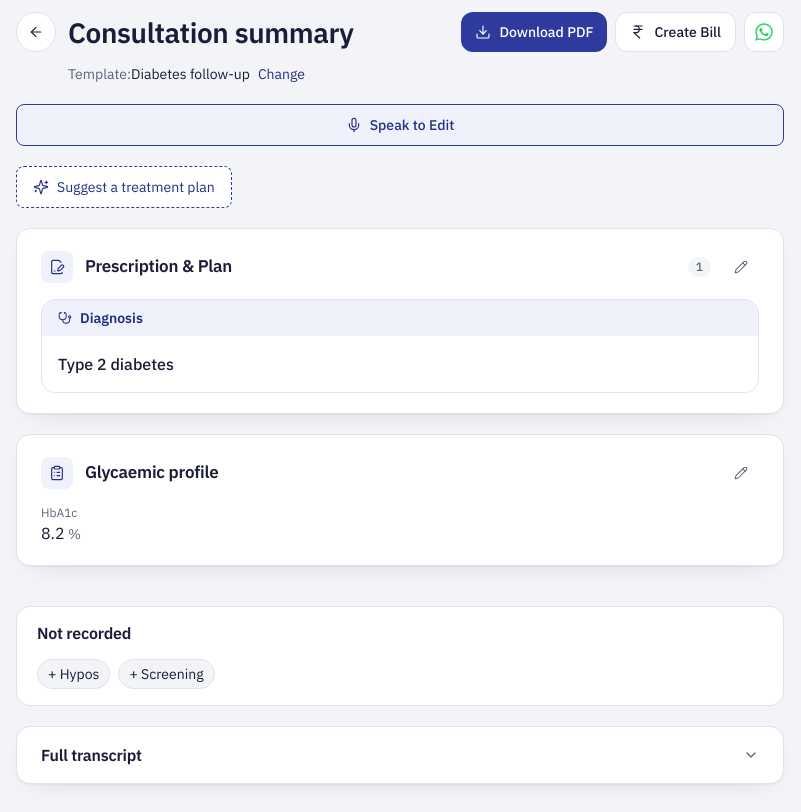
Test: template's own sections › shows filled ones as cards and empty ones as chips, and saves edits
The image size is (801, 812).
Expected: the heading "Glycaemic profile" is shown, [85,461,218,483]
Expected: the text "8.2" is shown, [41,523,65,543]
Step 1. Click the button named "Edit Glycaemic profile" → x=741, y=473, box [723,455,759,491]
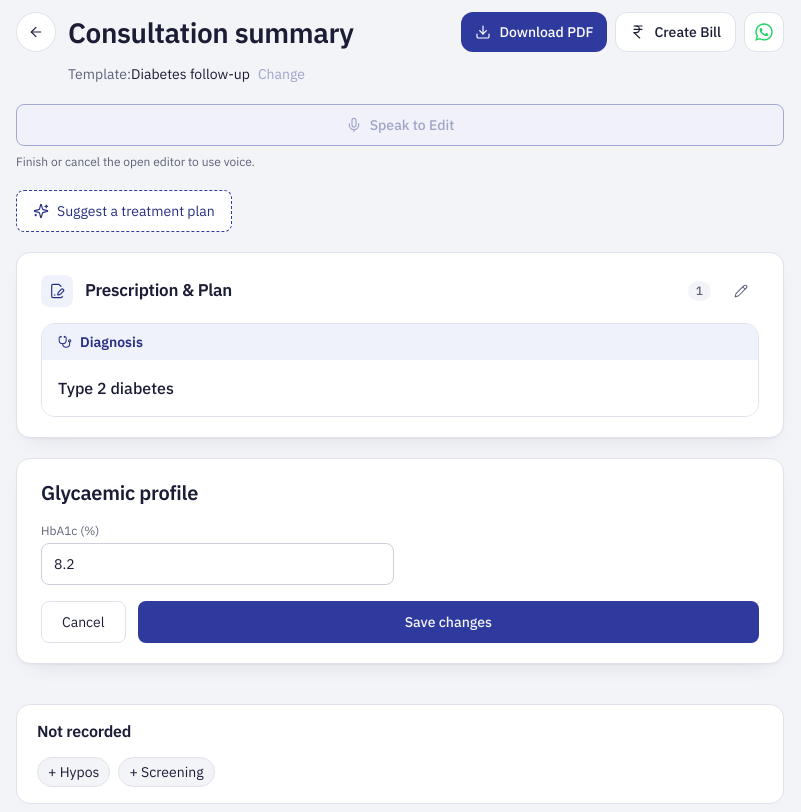
Step 2. Replace the text in the field showing "8.2" with "7.4" → x=218, y=564, box [41,543,394,585]
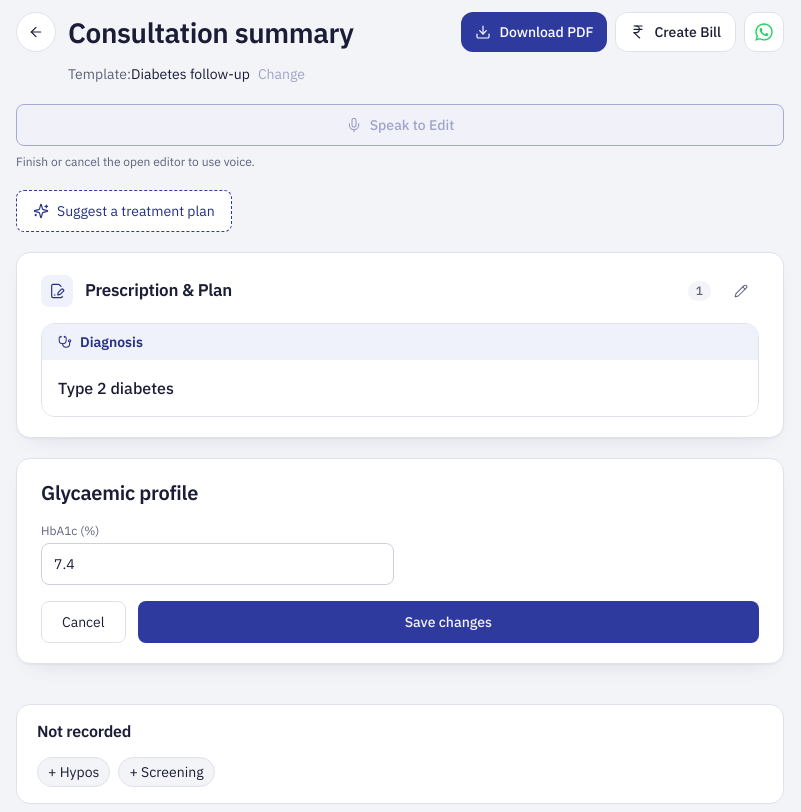
Step 3. Click the button "Save changes" → x=448, y=622, box [138,601,759,643]
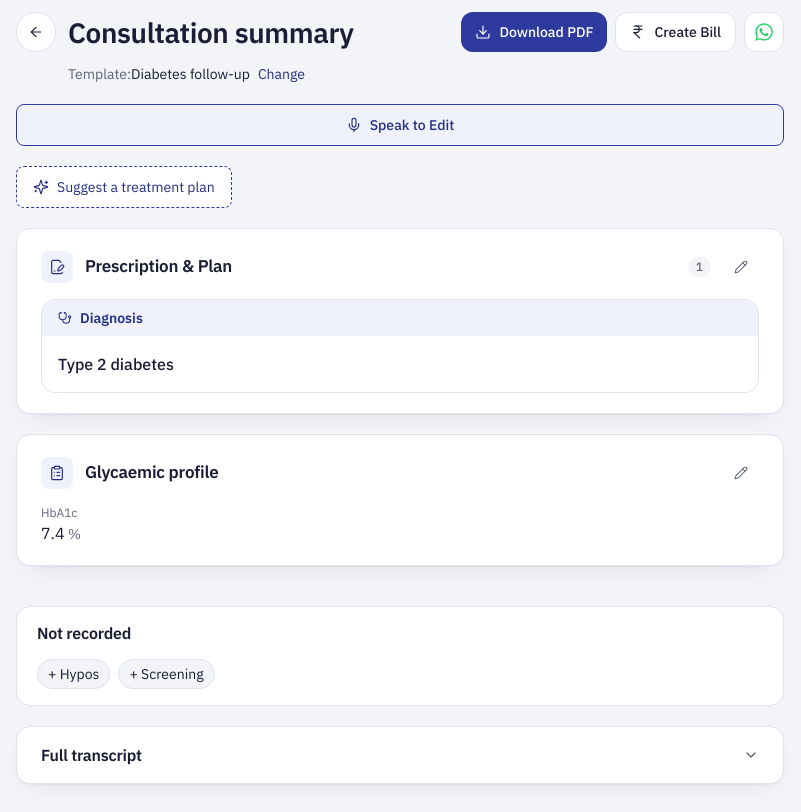
Now the text "7.4" is shown, box [41,523,65,543]
